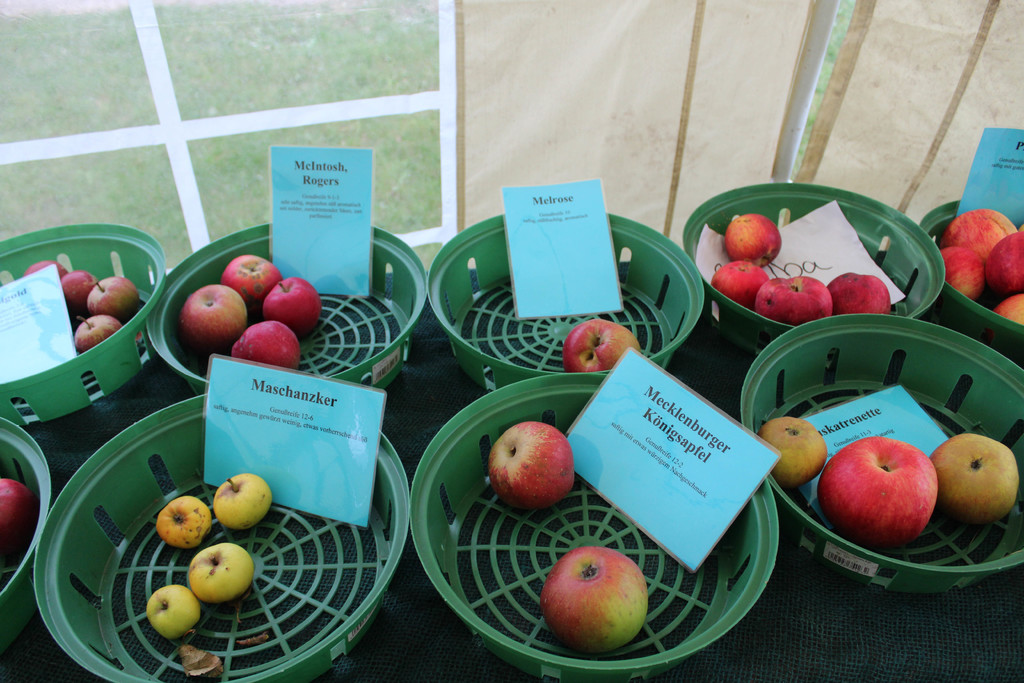Apple: (823, 433, 947, 548), (542, 547, 648, 653), (928, 431, 1020, 520), (490, 418, 579, 508), (755, 413, 828, 490), (753, 272, 833, 325), (938, 209, 1018, 262), (560, 317, 638, 368), (188, 540, 253, 598), (178, 288, 247, 342), (227, 322, 300, 372), (263, 278, 321, 337), (219, 254, 283, 305), (723, 215, 783, 269), (158, 494, 213, 548), (214, 472, 270, 524), (144, 583, 198, 636), (828, 269, 889, 315), (709, 260, 769, 305), (940, 244, 988, 299), (83, 275, 138, 317), (986, 230, 1023, 289), (0, 477, 35, 539), (73, 314, 122, 353), (59, 267, 96, 305), (990, 291, 1023, 321), (22, 259, 71, 279), (1016, 222, 1023, 231)
